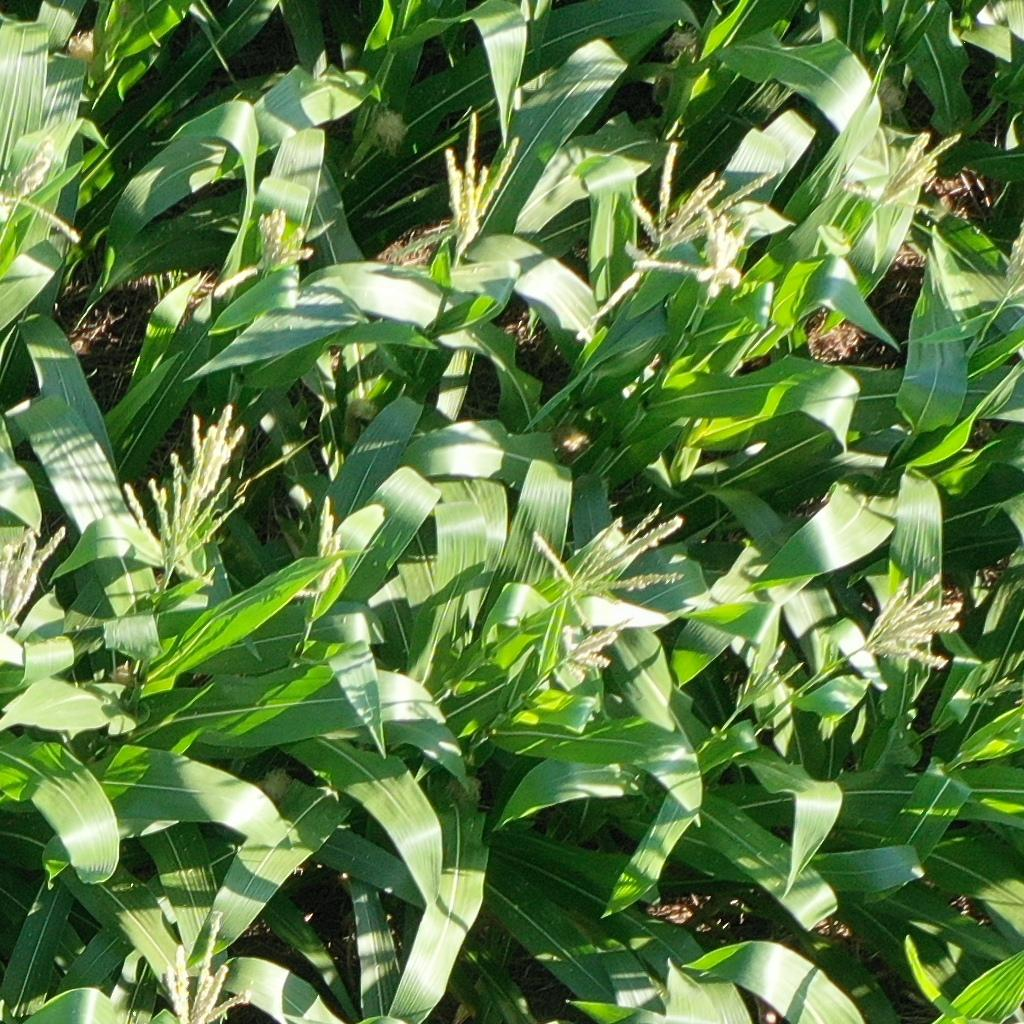Tassel: (117, 400, 253, 597), (621, 137, 782, 278), (531, 502, 692, 626), (437, 109, 521, 269), (840, 121, 963, 217), (854, 569, 961, 678), (156, 903, 252, 1024), (1, 134, 93, 248), (212, 206, 316, 304), (1, 522, 73, 634), (285, 497, 351, 600), (733, 634, 801, 722), (546, 618, 630, 684), (703, 207, 755, 295), (1002, 218, 1024, 302), (975, 674, 1024, 710)
